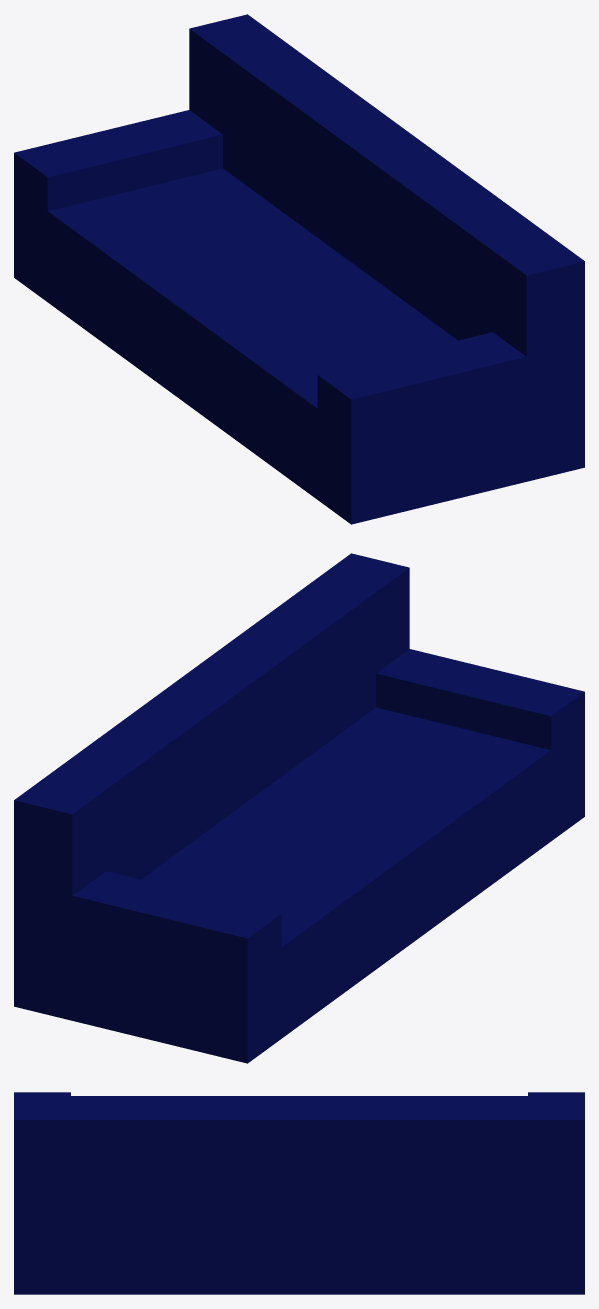
File: sofa_temp.fbx
3 renders of one model, top to bottom at view 1: azimuth 30°, elevation 25°; view 2: azimuth 150°, elevation 25°; view 3: azimuth 270°, elevation 25°, orthographic. The views are drawn at different scales.
Parts seen in each view (by area): view 1: Cube; view 2: Cube; view 3: Cube.
Part boxes in pixels (box(x1,y1,x2,y2)): Cube: box(14, 14, 584, 524); Cube: box(14, 553, 584, 1063); Cube: box(14, 1092, 584, 1294).
Size of the model in its own units: 1 by 0.8439 by 2.5.
